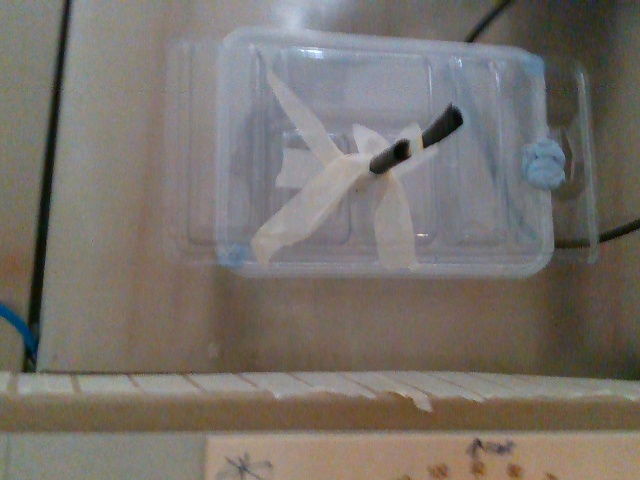test_strip: (408, 102, 463, 157)
